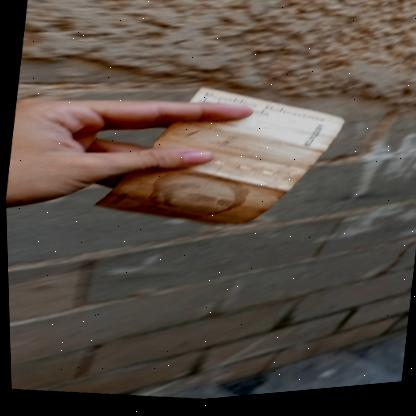five-front-vef: (87, 64, 350, 252)
